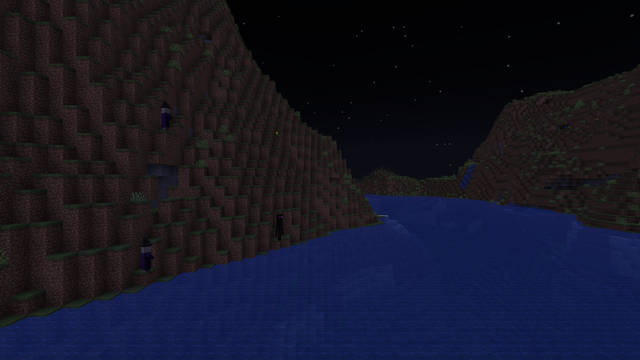endermens: (276, 213, 282, 240)
sorcieres: (139, 243, 152, 272), (160, 106, 170, 129)
